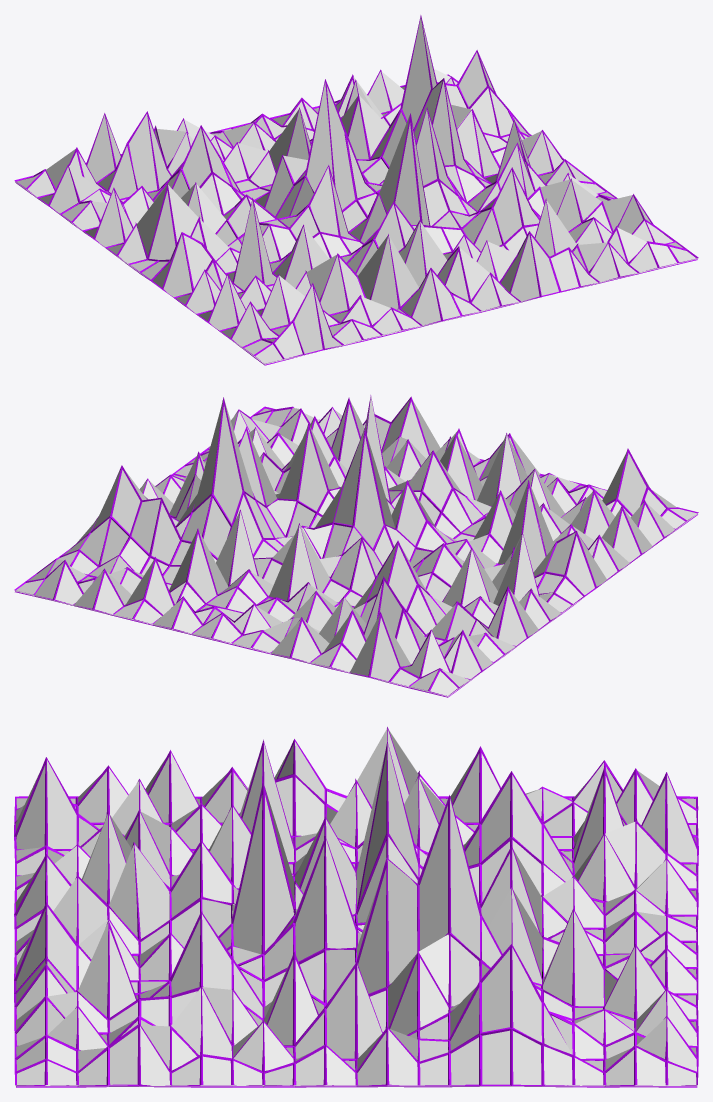
File: mountains.glb
The picture shows the model from 3 angles, top to bottom: view 1: azimuth 30°, elevation 25°; view 2: azimuth 150°, elevation 25°; view 3: azimuth 270°, elevation 25°; orthographic projection. The views are drawn at different scales.
Visible parts, largest first — view 1: Plane.001, Plane; view 2: Plane.001, Plane; view 3: Plane.001, Plane.
Boxes of the visible parts, <box> form: Plane.001: <box>15,17,698,364</box>; Plane: <box>14,15,698,365</box>; Plane.001: <box>15,396,698,696</box>; Plane: <box>14,395,698,697</box>; Plane.001: <box>15,728,697,1086</box>; Plane: <box>14,727,698,1087</box>.
Size of the model in its own units: 2.01 by 0.7038 by 2.01.
Materials: 2 (2 with a texture image).
